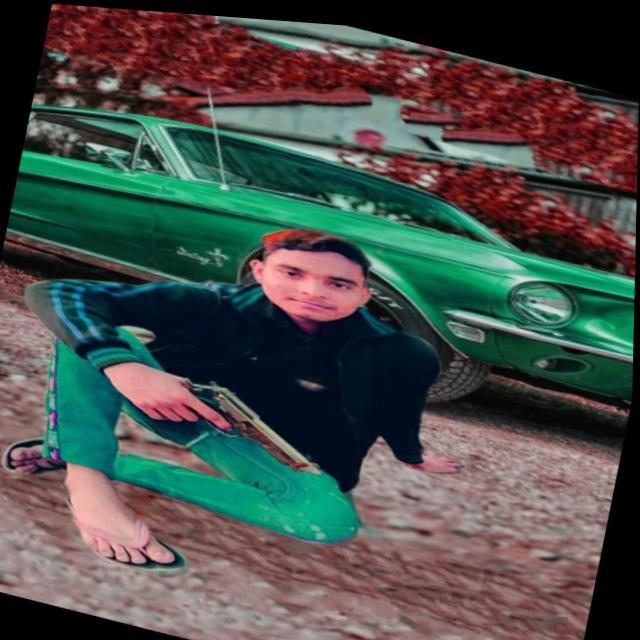weapon: (110, 352, 344, 478)
